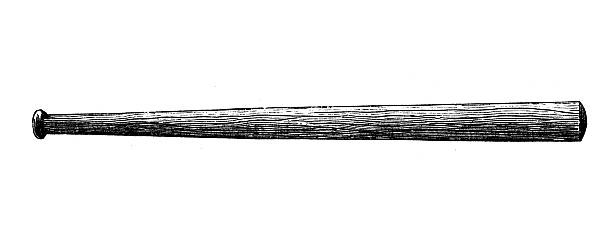bita: (32, 98, 588, 141)
